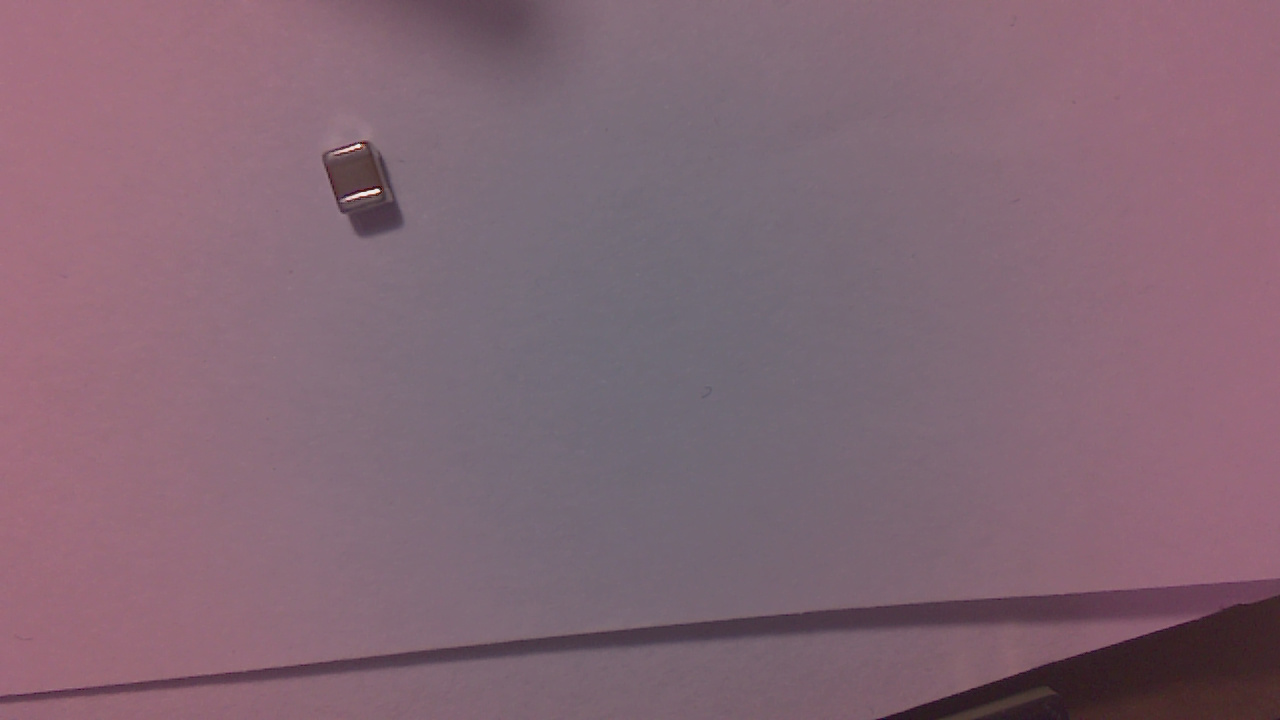Condensator: (326, 146, 406, 222)
